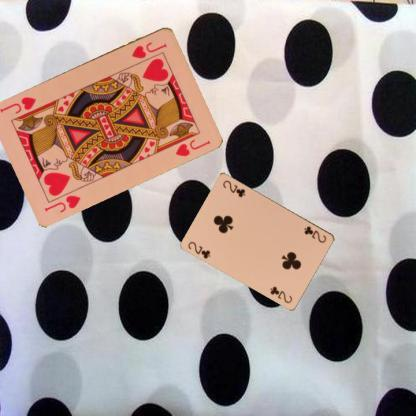2c: (302, 223, 328, 244), (186, 239, 212, 260)
Jh: (129, 38, 169, 60), (42, 192, 82, 214)
